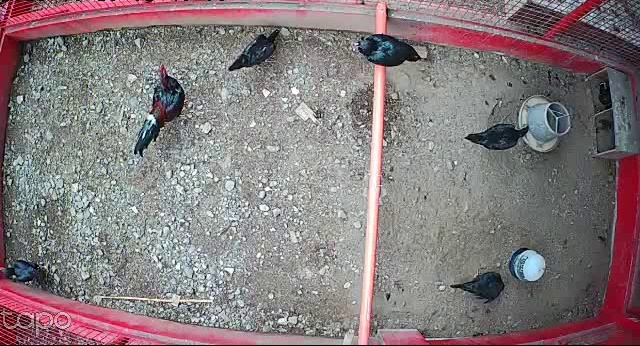Chicken: (353, 29, 423, 67), (227, 26, 282, 74), (449, 265, 506, 304), (464, 120, 532, 152), (0, 258, 60, 287)
Drinker: (509, 245, 547, 285)
Feeder: (516, 93, 572, 153)
Rooster: (133, 63, 188, 158)
